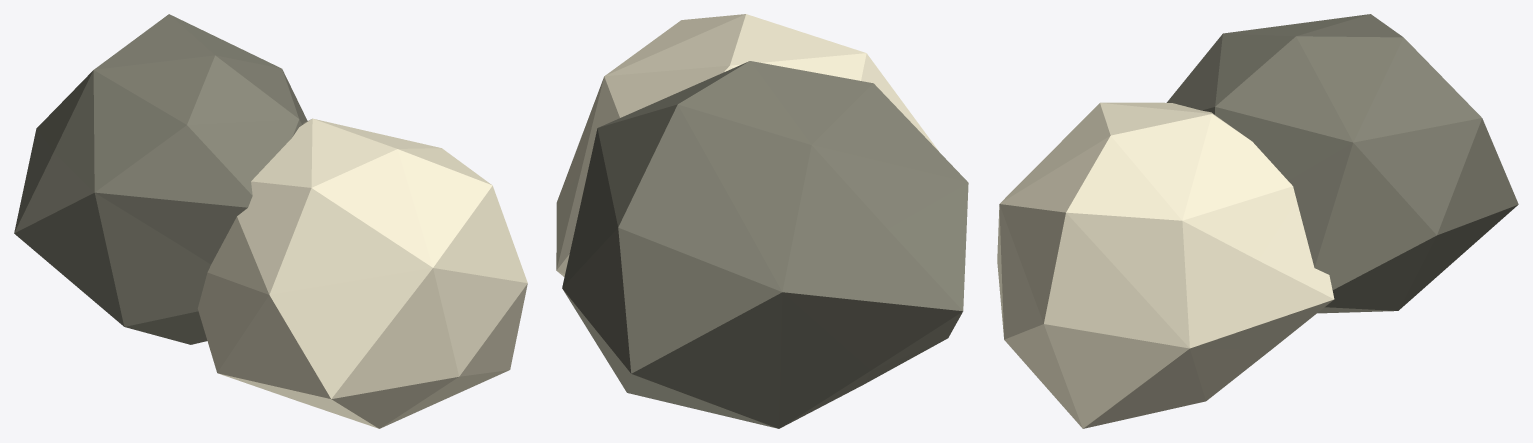
Rendered from cloud_3.FBX.
3 renders of one model, left to right at view 1: azimuth 30°, elevation 25°; view 2: azimuth 150°, elevation 25°; view 3: azimuth 270°, elevation 25°, orthographic. The views are drawn at different scales.
Visible parts, largest first — view 1: cloud_3; view 2: cloud_3; view 3: cloud_3.
Boxes of the visible parts, bbox=[...] form: cloud_3: bbox=[14, 14, 527, 428]; cloud_3: bbox=[556, 14, 968, 428]; cloud_3: bbox=[997, 14, 1518, 428].
Bounding box in the file's own units: 660 × 500 × 736.
